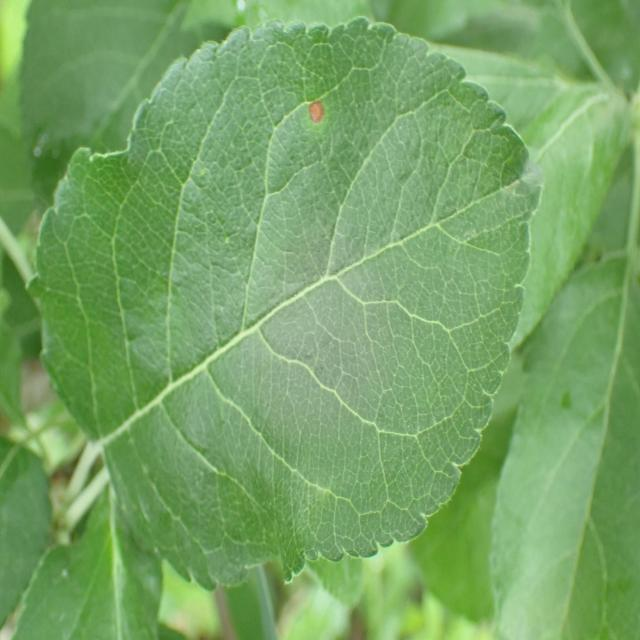Black Rot: (292, 76, 340, 156)
